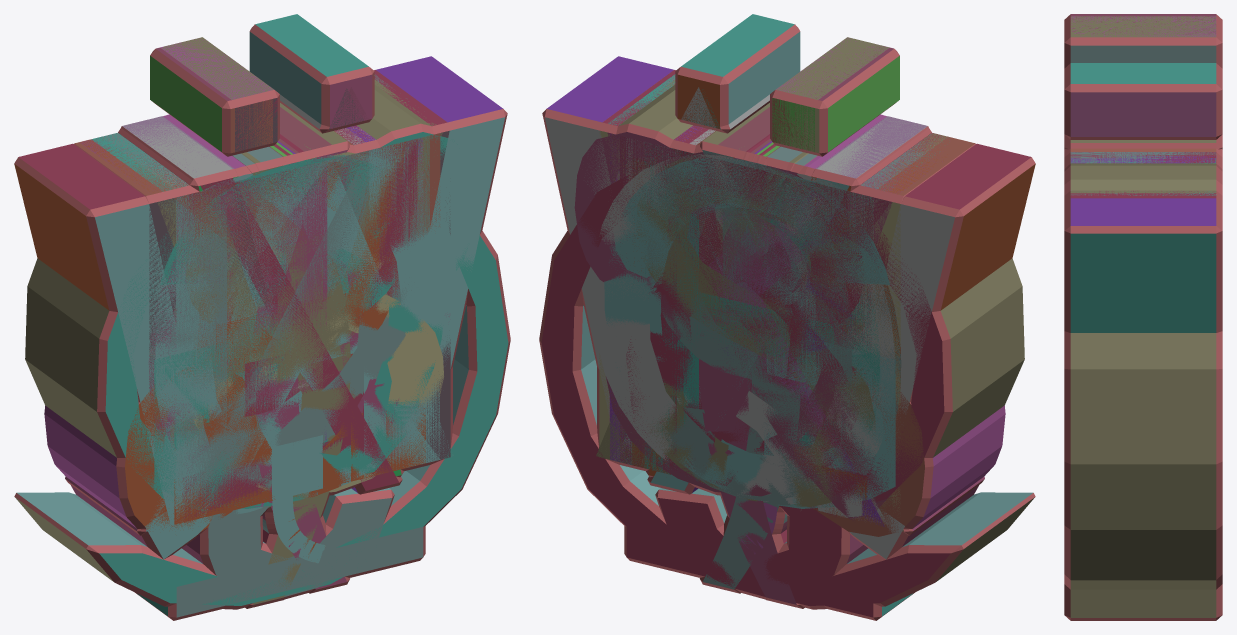
The model's file is FONT.fbx.
3 views of the same model, side by side, from view 1: azimuth 30°, elevation 25°; view 2: azimuth 150°, elevation 25°; view 3: azimuth 270°, elevation 25° (orthographic).
Visible parts, largest first — view 1: 048, 022, 054, 013, 016, 052, 061, 006, 012, 007, 000, 045 (+27 smaller); view 2: 048, 022, 006, 054, 016, 018, 052, 035, 061, 055, 041, 001 (+24 smaller); view 3: 048, 022, 061, 059, 045, 054, 012, 042, 004, 063, 055, 010 (+3 smaller).
Boxes of the visible parts, bbox=[...] form: 048: bbox=[14, 152, 510, 609]; 022: bbox=[14, 56, 507, 525]; 054: bbox=[44, 84, 467, 534]; 013: bbox=[163, 128, 422, 516]; 016: bbox=[71, 141, 457, 559]; 052: bbox=[182, 156, 405, 599]; 061: bbox=[160, 14, 374, 150]; 006: bbox=[154, 146, 443, 508]; 012: bbox=[74, 70, 452, 471]; 007: bbox=[102, 126, 423, 521]; 000: bbox=[65, 159, 453, 535]; 045: bbox=[135, 526, 425, 620]; 048: bbox=[539, 152, 1035, 609]; 022: bbox=[542, 56, 1035, 514]; 006: bbox=[604, 146, 895, 508]; 054: bbox=[574, 84, 1005, 536]; 016: bbox=[592, 141, 978, 559]; 018: bbox=[627, 134, 875, 506]; 052: bbox=[654, 158, 867, 599]; 035: bbox=[647, 162, 852, 500]; 061: bbox=[675, 14, 888, 155]; 055: bbox=[606, 131, 890, 520]; 041: bbox=[699, 146, 817, 608]; 001: bbox=[620, 136, 875, 486]; 048: bbox=[1064, 331, 1222, 589]; 022: bbox=[1064, 198, 1222, 332]; 061: bbox=[1064, 16, 1222, 139]; 059: bbox=[1064, 16, 1222, 68]; 045: bbox=[1064, 584, 1222, 620]; 054: bbox=[1064, 163, 1222, 195]; 012: bbox=[1064, 155, 1222, 203]; 042: bbox=[1064, 138, 1222, 149]; 004: bbox=[1064, 152, 1222, 168]; 063: bbox=[1064, 14, 1222, 39]; 055: bbox=[1064, 148, 1222, 156]; 010: bbox=[1064, 190, 1219, 198].
Size of the model in its own units: 1.19 by 1.37 by 0.378.
